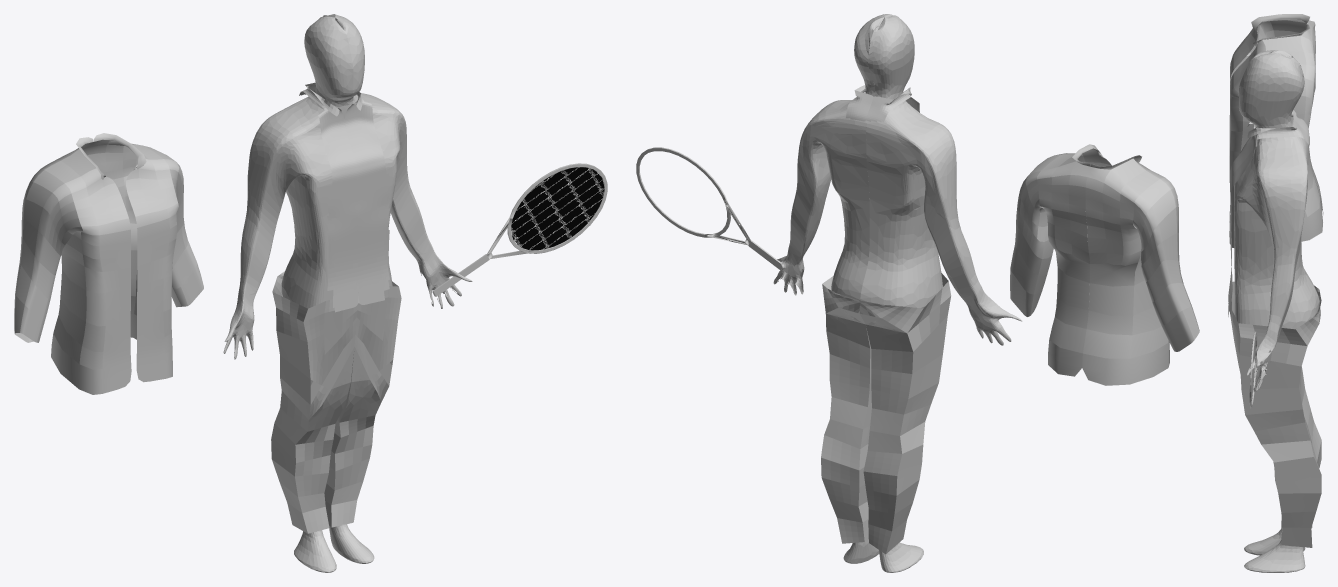
Rendered from raqueta con modelo.fbx.
3 views of the same model, side by side, from view 1: azimuth 30°, elevation 25°; view 2: azimuth 150°, elevation 25°; view 3: azimuth 270°, elevation 25° (orthographic). The views are drawn at different scales.
Visible parts, largest first — view 1: saco, persona, Pantalon, remera, centro, mango; view 2: persona, saco, Pantalon, mango, remera; view 3: persona, Pantalon, saco, remera, mango.
Part boxes in pixels (<box>): saco: <box>14,133,203,394</box>; persona: <box>223,14,472,572</box>; Pantalon: <box>271,271,401,533</box>; remera: <box>299,82,389,312</box>; centro: <box>511,167,604,250</box>; mango: <box>432,163,607,296</box>; persona: <box>773,14,1021,572</box>; saco: <box>1010,144,1199,385</box>; Pantalon: <box>821,273,951,554</box>; mango: <box>636,147,781,270</box>; remera: <box>846,85,919,122</box>; persona: <box>1234,50,1319,572</box>; Pantalon: <box>1230,281,1321,547</box>; saco: <box>1229,14,1323,247</box>; remera: <box>1228,110,1309,316</box>; mango: <box>1249,331,1259,408</box>.
Bounding box in the file's own units: 104 × 93.76 × 15.94.
